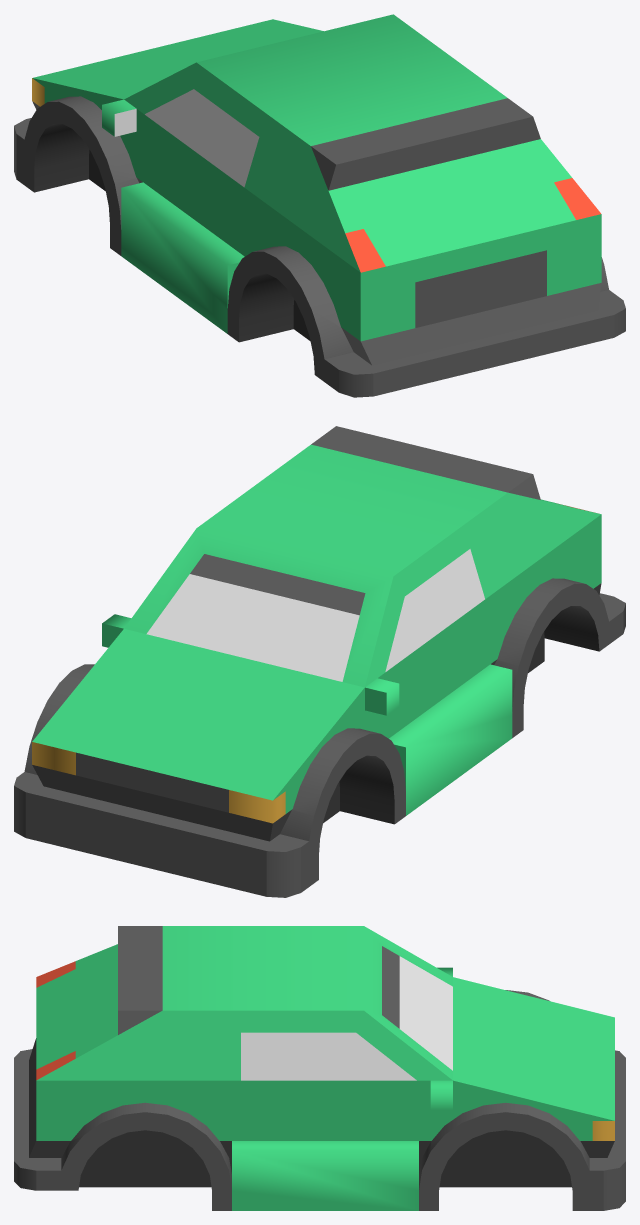
The model's file is race_hatchback.glb.
3 renders of one model, top to bottom at view 1: azimuth 30°, elevation 25°; view 2: azimuth 150°, elevation 25°; view 3: azimuth 270°, elevation 25°, orthographic. The views are drawn at different scales.
Parts seen in each view (by area): view 1: body; view 2: body; view 3: body.
Boxes of the visible parts, box(x1,y1,x2,y2) form: body: box(14, 14, 625, 397); body: box(14, 426, 625, 897); body: box(14, 926, 625, 1210).
Bounding box in the file's own units: 1.3 × 0.9 × 2.75.
